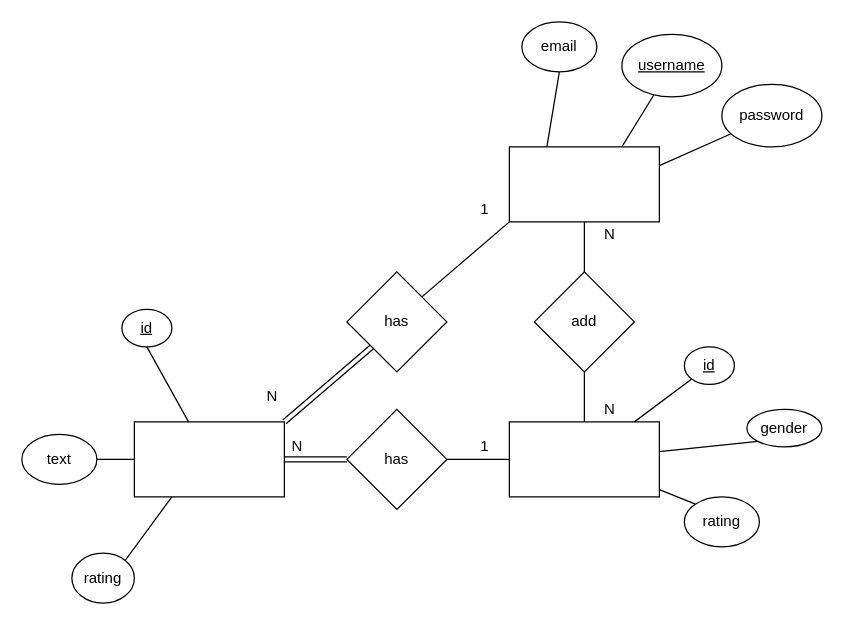
This 844x625 diagram has some shape labels left out. Each missing label, with the centre of its shape:
Account: pixel 583 184
Comment: pixel 208 459
Name: pixel 583 459
